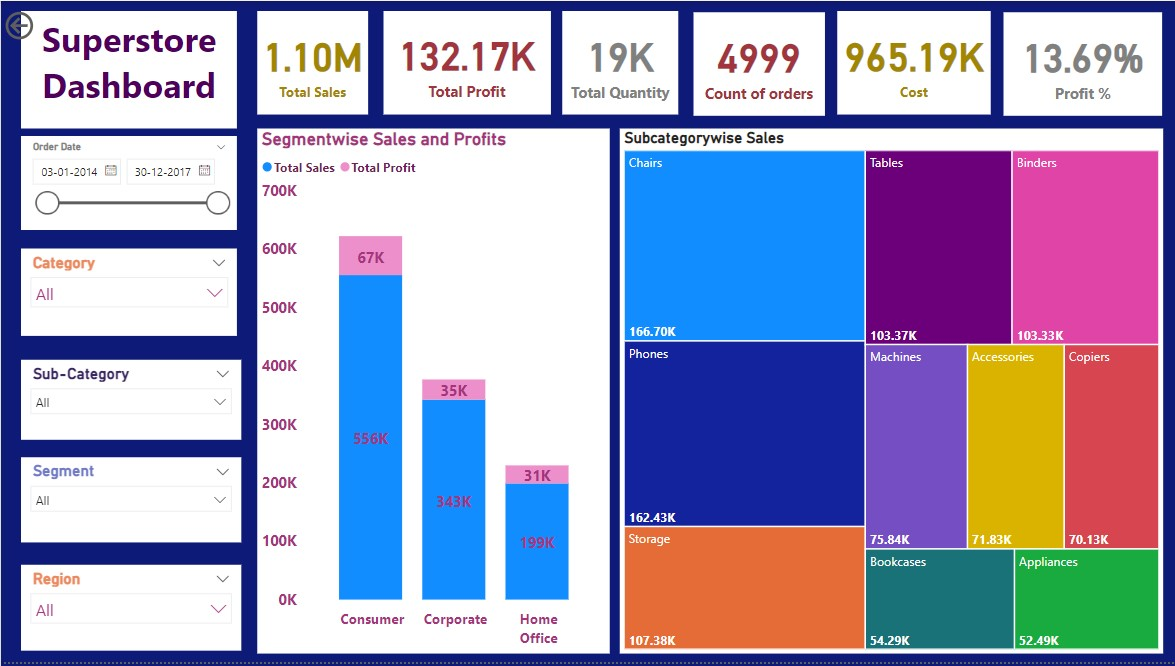

This screenshot's page, from the dashboard's own definition file:
{"tool":"powerbi","page":{"name":"Insights 2","canvas":[1280,720],"ordinal":1},"visuals":[{"type":"card","fields":{"Values":["Sum(Sample - Superstore.Sales)"]},"box":[279.1,10.9,121.2,113],"z":0},{"type":"columnChart","title":"Segmentwise Sales and Profits","fields":{"Y":["Sum(Sample - Superstore.Sales)","Sum(Sample - Superstore.Profit)"],"Category":["Sample - Superstore.Segment"]},"box":[279.1,138.9,384,571.9],"z":1000},{"type":"card","fields":{"Values":["Sum(Sample - Superstore.Profit)"]},"box":[416.8,11,182.1,112.5],"z":2000},{"type":"textbox","box":[21.8,10.9,235.6,128],"z":3000},{"type":"actionButton","box":[0,7.3,100.2,40.3],"z":4000},{"type":"card","fields":{"Values":["Sum(Sample - Superstore.Quantity)"]},"box":[611.4,10.9,126.6,113],"z":5000},{"type":"treemap","title":"Subcategorywise Sales","fields":{"Group":["Sample - Superstore.Sub-Category"],"Values":["Sum(Sample - Superstore.Sales)"]},"box":[674,138.9,592.3,571.9],"z":6000},{"type":"card","fields":{"Values":["Category.Count of orders"]},"box":[754.4,12.3,143,113],"z":7000},{"type":"card","fields":{"Values":["Category.Cost"]},"box":[911,10.9,167.5,113],"z":8000},{"type":"card","fields":{"Values":["Category.Profit %"]},"box":[1092.1,12.3,172.9,113],"z":9000},{"type":"slicer","fields":{"Values":["Sample - Superstore.Order Date"]},"box":[21.8,147.1,235.6,102.1],"z":10000},{"type":"slicer","fields":{"Values":["Category.Category"]},"box":[21.8,269.6,235.6,95.3],"z":11000},{"type":"slicer","fields":{"Values":["Sample - Superstore.Sub-Category"]},"box":[21.8,390.8,239.7,87.1],"z":12000},{"type":"slicer","fields":{"Values":["Sample - Superstore.Segment"]},"box":[21.8,497,239.7,92.6],"z":13000},{"type":"slicer","fields":{"Values":["Sample - Superstore.Region"]},"box":[21.8,614.1,239.7,94],"z":14000}]}

Visuals, with their boxes in screenshot pixels (x1, y1, x2, y2), scaled from the page's 1280x720 canvas onto the 1175x666 screenshot:
card - Sum(Sample - Superstore.Sales): 256,10,367,115
"Segmentwise Sales and Profits" columnChart: 256,128,609,657
card - Sum(Sample - Superstore.Profit): 383,10,550,114
textbox: 20,10,236,128
actionButton: 0,7,92,44
card - Sum(Sample - Superstore.Quantity): 561,10,677,115
"Subcategorywise Sales" treemap: 619,128,1162,657
card - Category.Count of orders: 693,11,824,116
card - Category.Cost: 836,10,990,115
card - Category.Profit %: 1003,11,1161,116
slicer - Sample - Superstore.Order Date: 20,136,236,231
slicer - Category.Category: 20,249,236,338
slicer - Sample - Superstore.Sub-Category: 20,361,240,442
slicer - Sample - Superstore.Segment: 20,460,240,545
slicer - Sample - Superstore.Region: 20,568,240,655
